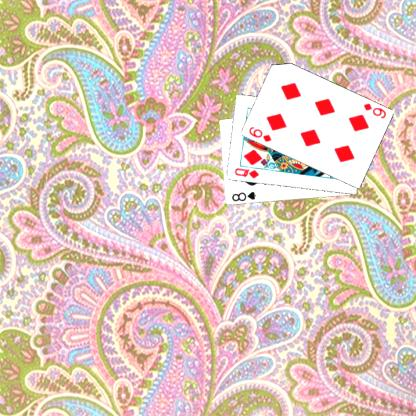6D: (246, 124, 272, 143), (361, 100, 387, 119)
8S: (229, 189, 257, 203)
QD: (232, 166, 260, 180)
